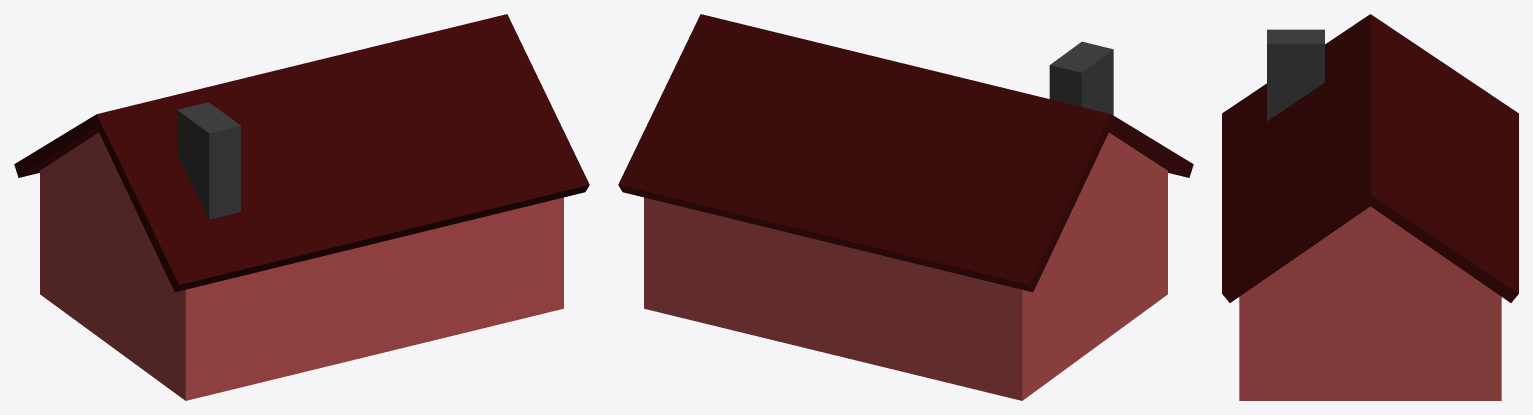
The model's file is village_house_A.FBX.
3 renders of one model, left to right at view 1: azimuth 30°, elevation 25°; view 2: azimuth 150°, elevation 25°; view 3: azimuth 270°, elevation 25°, orthographic. The views are drawn at different scales.
Visible parts, largest first — view 1: Murs_01; view 2: Murs_01; view 3: Murs_01.
Part boxes in pixels (left/top/right/bottom): Murs_01: left=14, top=14, right=589, bottom=400; Murs_01: left=618, top=14, right=1193, bottom=400; Murs_01: left=1222, top=14, right=1518, bottom=400.
Bounding box in the file's own units: 1303 × 749 × 906.
